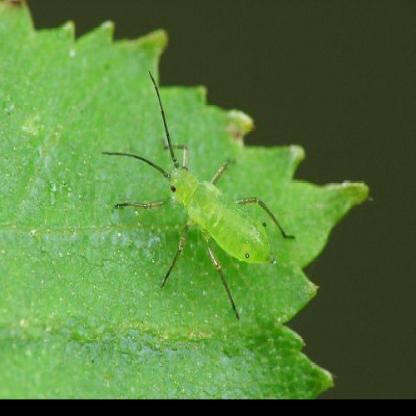aphid: (116, 99, 291, 297)
